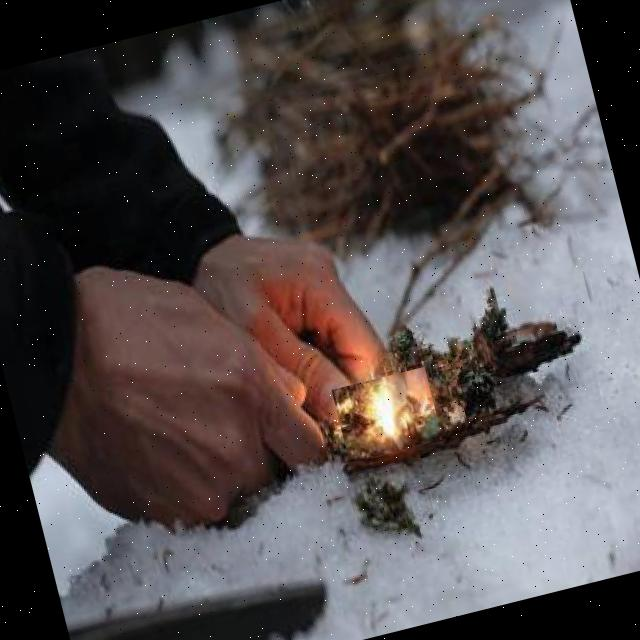fire: (332, 366, 442, 462)
